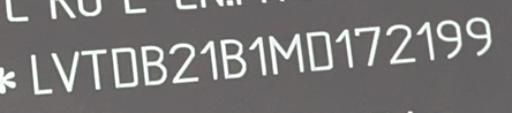letter: (268, 30, 304, 77), (108, 42, 140, 89), (352, 23, 386, 66), (219, 32, 247, 83), (386, 19, 416, 66), (50, 50, 82, 93), (304, 27, 334, 72), (169, 39, 197, 86), (140, 41, 168, 88), (82, 44, 108, 91), (26, 52, 52, 95), (466, 15, 490, 58), (438, 17, 462, 60), (198, 36, 220, 81), (248, 30, 268, 79), (416, 20, 438, 63), (334, 24, 354, 67)
